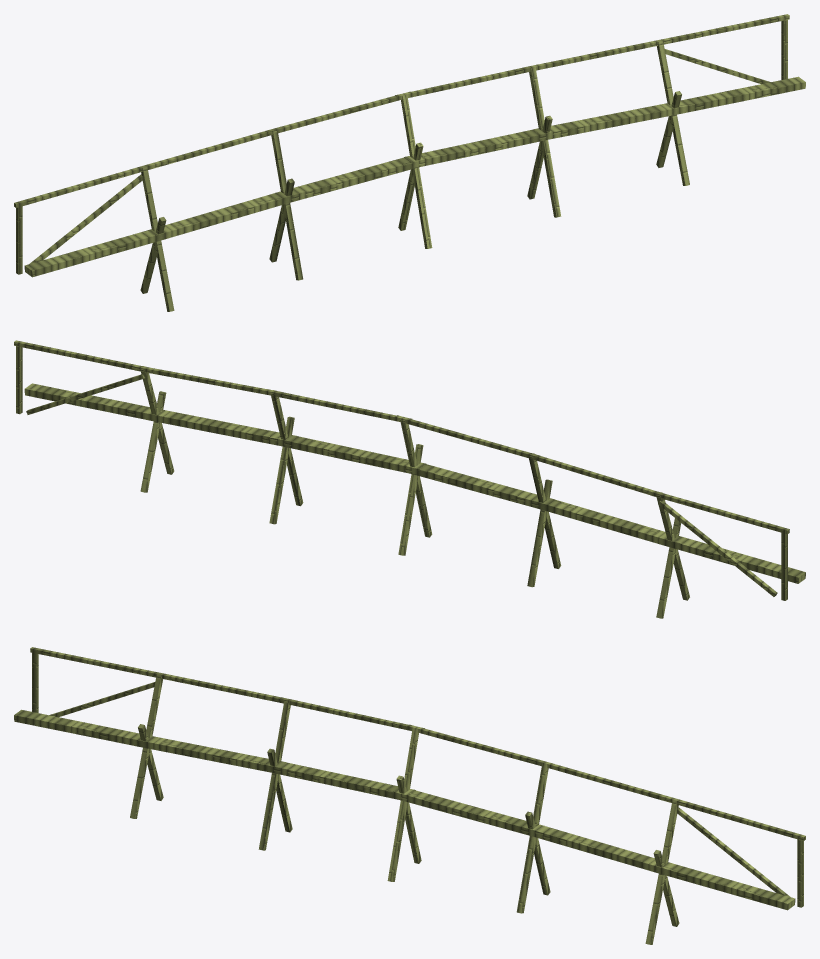
The model's file is monkey_bridge.glb.
3 views of the same model, one above another, from view 1: azimuth 30°, elevation 25°; view 2: azimuth 150°, elevation 25°; view 3: azimuth 330°, elevation 25° (orthographic).
Parts seen in each view (by area): view 1: monkey_bridge_deck, monkey_bridge_legs, monkey_bridge_rail; view 2: monkey_bridge_deck, monkey_bridge_legs, monkey_bridge_rail; view 3: monkey_bridge_deck, monkey_bridge_legs, monkey_bridge_rail.
Part boxes in pixels (x1,y1,x2,y2): monkey_bridge_deck: (24,76,805,277); monkey_bridge_legs: (16,17,787,311); monkey_bridge_rail: (14,14,789,263); monkey_bridge_deck: (24,383,805,583); monkey_bridge_legs: (16,343,787,618); monkey_bridge_rail: (14,340,789,596); monkey_bridge_deck: (14,709,795,910); monkey_bridge_legs: (32,650,803,944); monkey_bridge_rail: (30,647,805,896).
Size of what is drawn, in the model's own units: 15 by 2.54 by 0.9924.
Materials: 1 (1 with a texture image).
